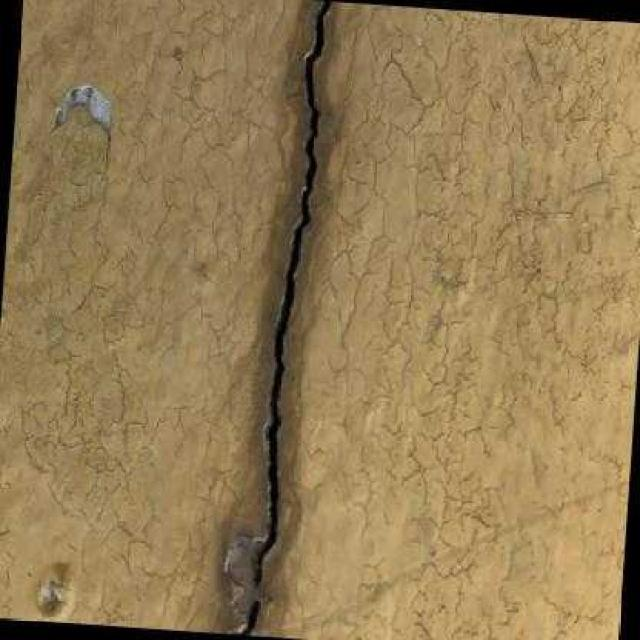D00: (229, 0, 331, 636)
